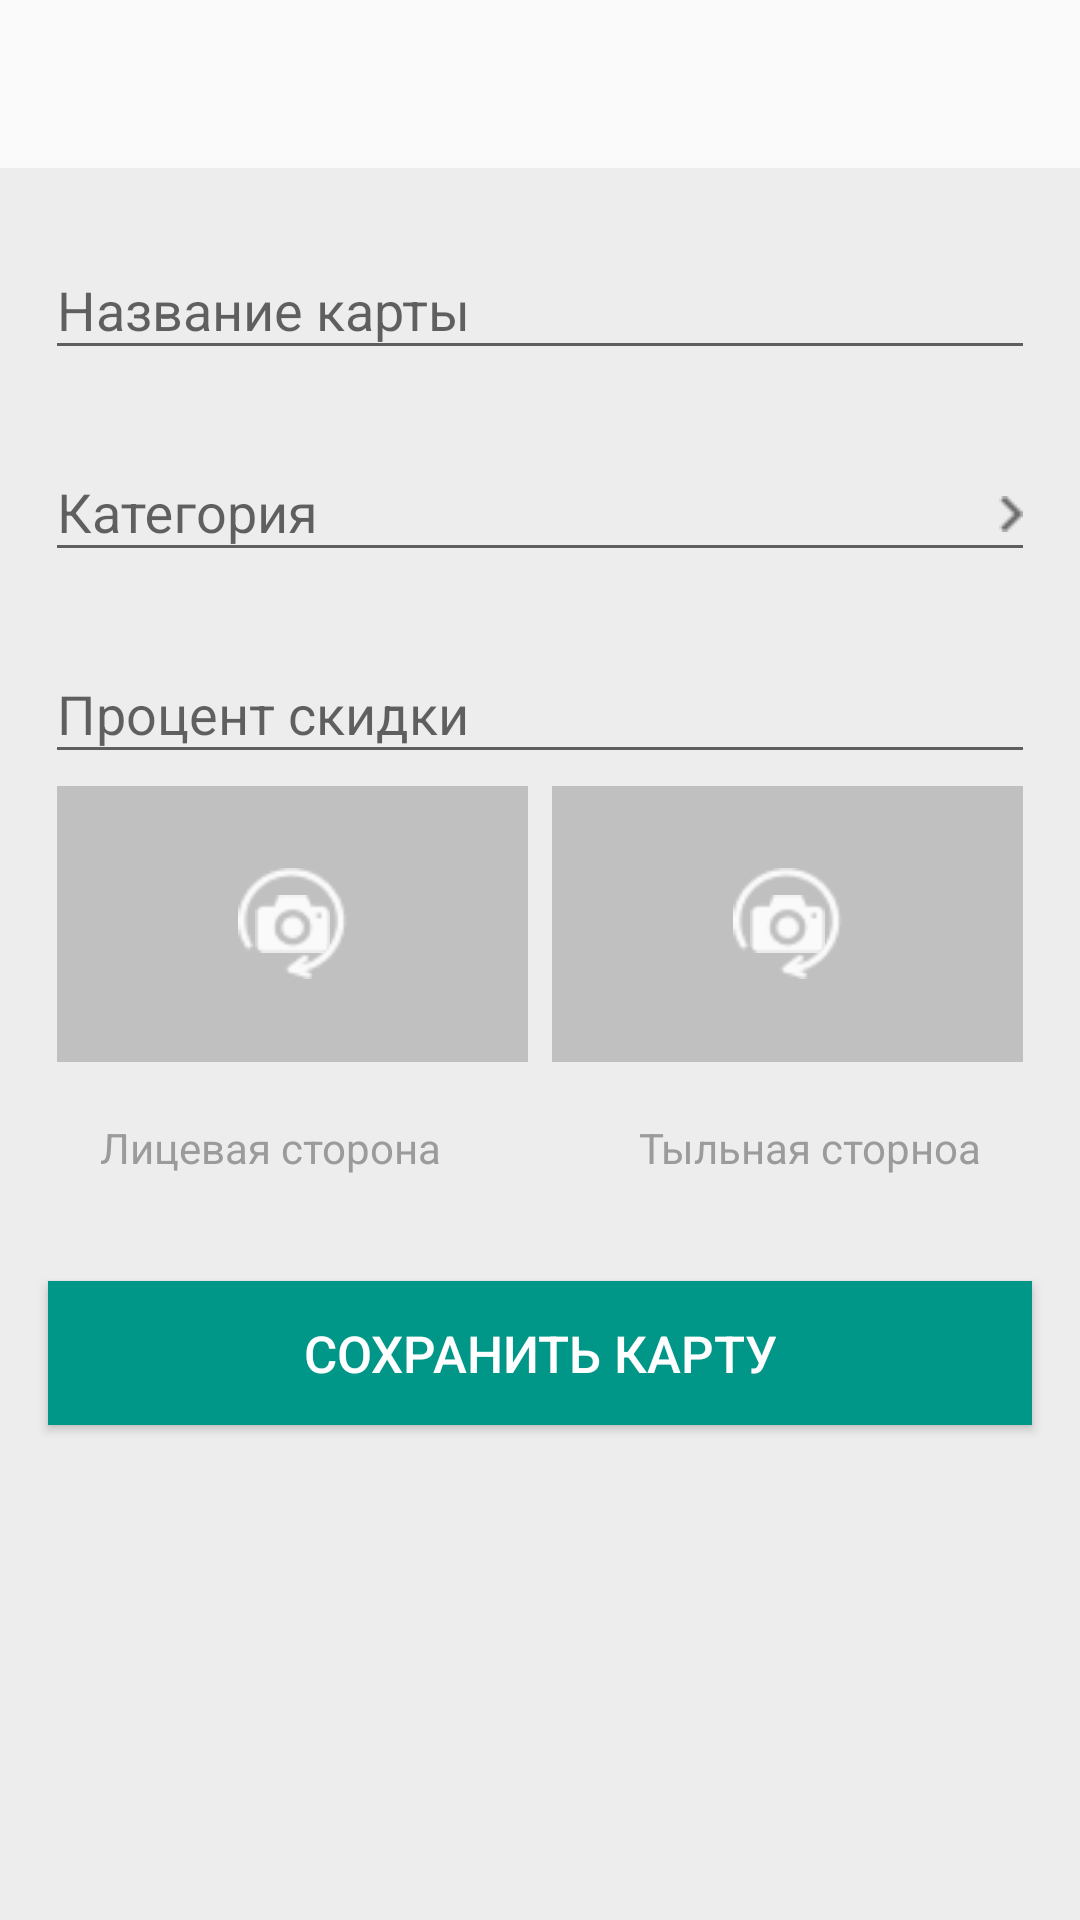

Where icons sit on this 1080 × 1920 app screen, as Rect(x1, y1, x2, y2):
camera: Rect(257, 894, 330, 954), Rect(752, 894, 825, 954)
